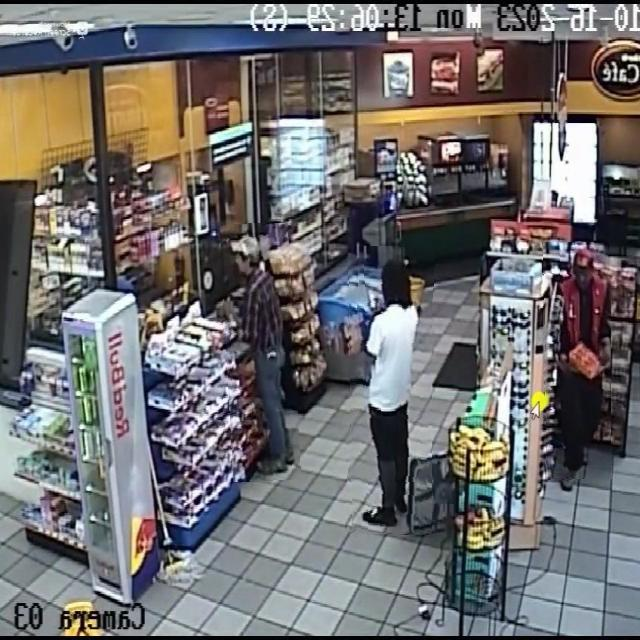Normal: (348, 246, 432, 535), (223, 223, 297, 482), (543, 242, 611, 480)
